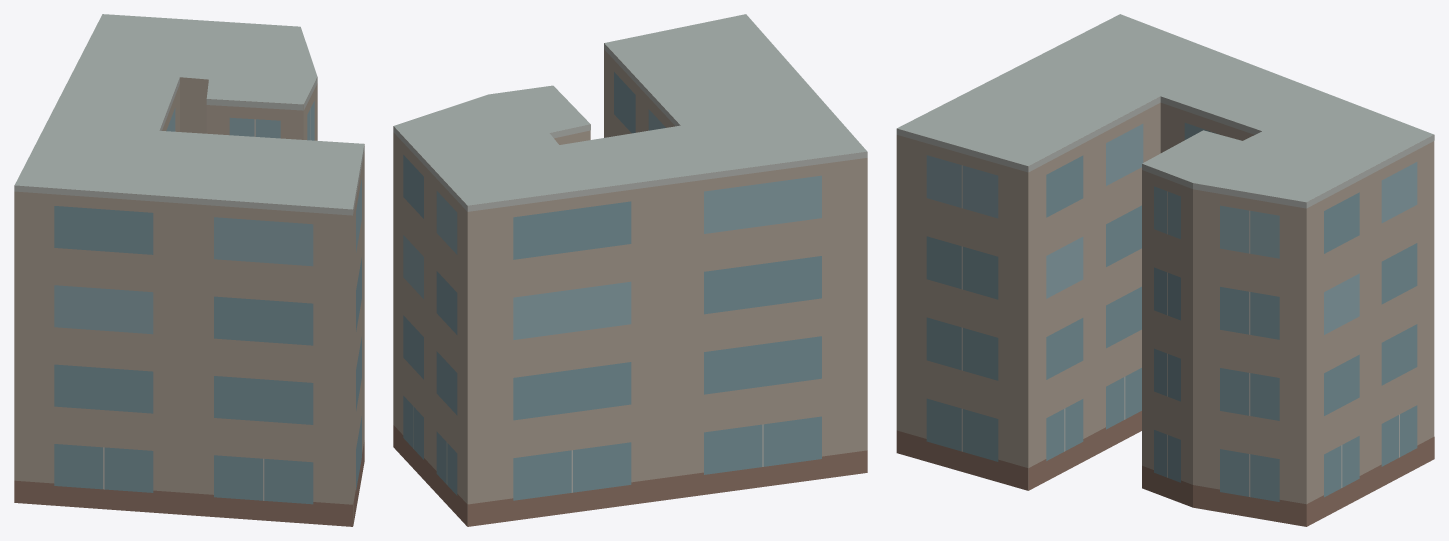
Rendered from survey-upis-32974293.glb.
3 views of the same model, side by side, from view 1: azimuth 30°, elevation 25°; view 2: azimuth 150°, elevation 25°; view 3: azimuth 270°, elevation 25° (orthographic). The views are drawn at different scales.
Parts seen in each view (by area): view 1: survey-upis-32974293.tmp; view 2: survey-upis-32974293.tmp; view 3: survey-upis-32974293.tmp.
Boxes of the visible parts, <box> form: survey-upis-32974293.tmp: <box>14,14,364,526</box>; survey-upis-32974293.tmp: <box>393,14,867,526</box>; survey-upis-32974293.tmp: <box>896,14,1434,526</box>.
Bounding box in the file's own units: 15.81 × 12.7 × 19.08.
